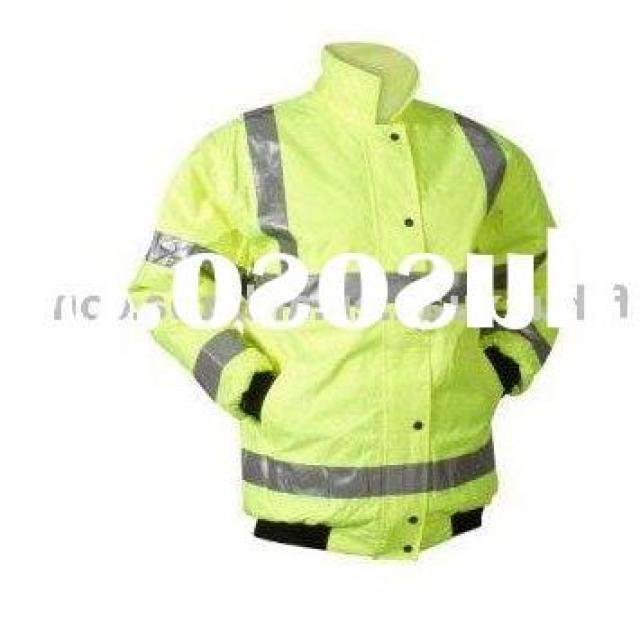reflective_jacket: (93, 29, 586, 584)
